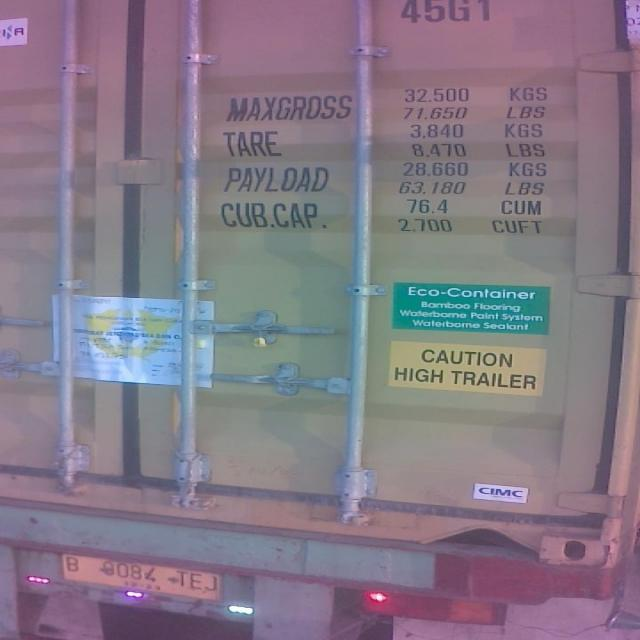seal: (249, 316, 273, 351)
